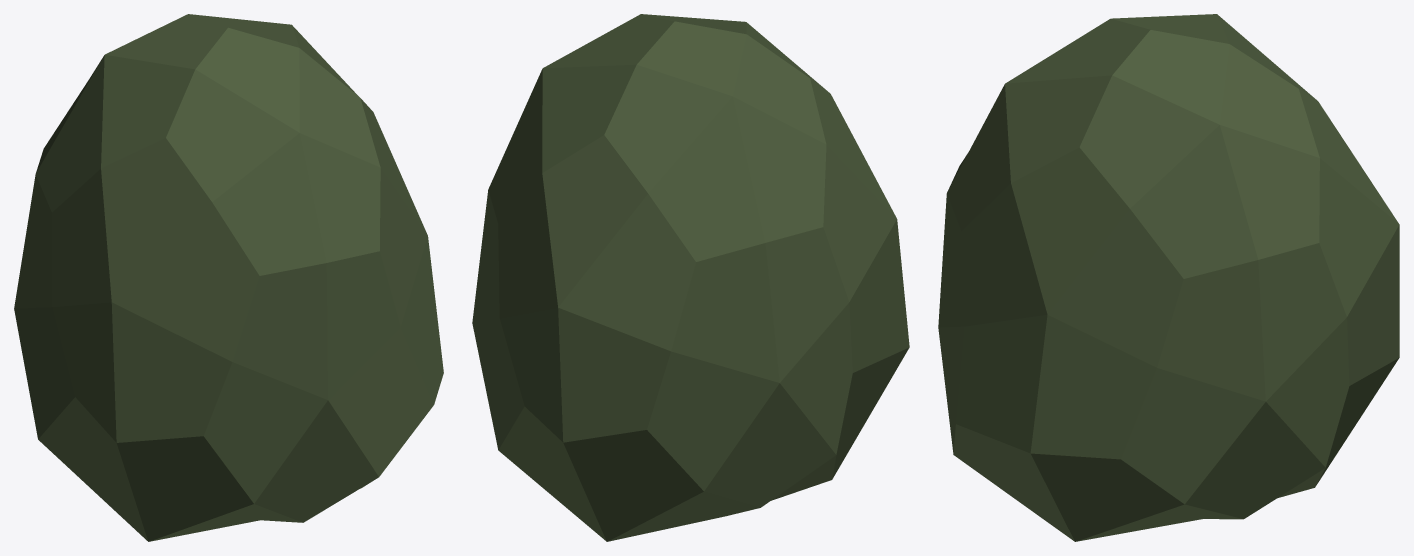
File: bush_2_v1.fbx
3 views of the same model, side by side, from view 1: azimuth 30°, elevation 25°; view 2: azimuth 150°, elevation 25°; view 3: azimuth 270°, elevation 25° (orthographic).
Parts seen in each view (by area): view 1: bush_2; view 2: bush_2; view 3: bush_2.
Boxes of the visible parts, x1,y1,x2,y2 form: bush_2: [14, 14, 443, 541]; bush_2: [472, 14, 909, 541]; bush_2: [938, 14, 1399, 541].
Size of the model in its own units: 1.56 by 1.91 by 1.72.
